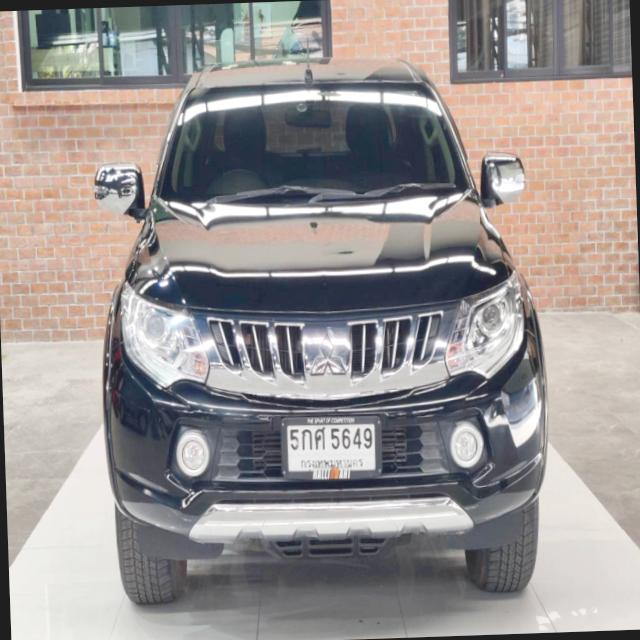license_plate: (281, 414, 384, 481)
